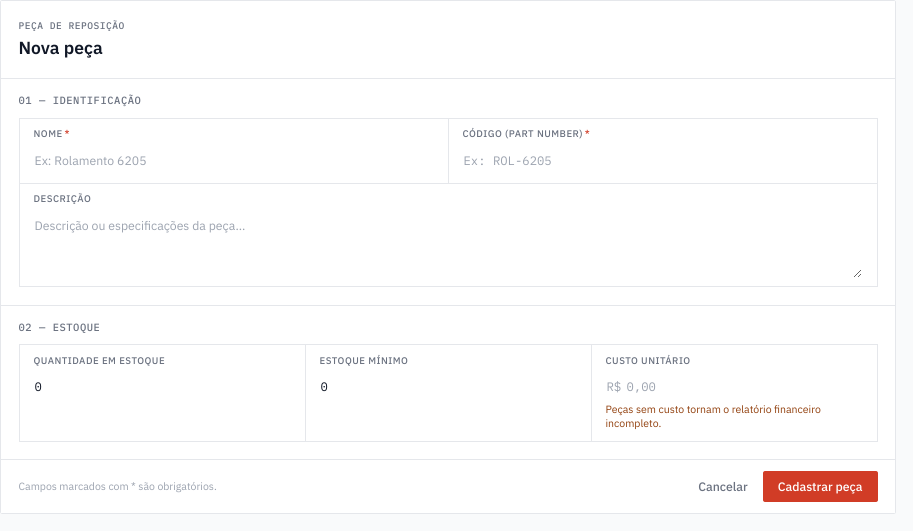
Test: SparePartEditPage — aviso de custo › deve esconder o aviso quando o custo é informado
This screenshot has width=913, height=531.
Type "3590" into the field labelled "Custo Unitário" at (744, 386), box [626, 372, 862, 401]
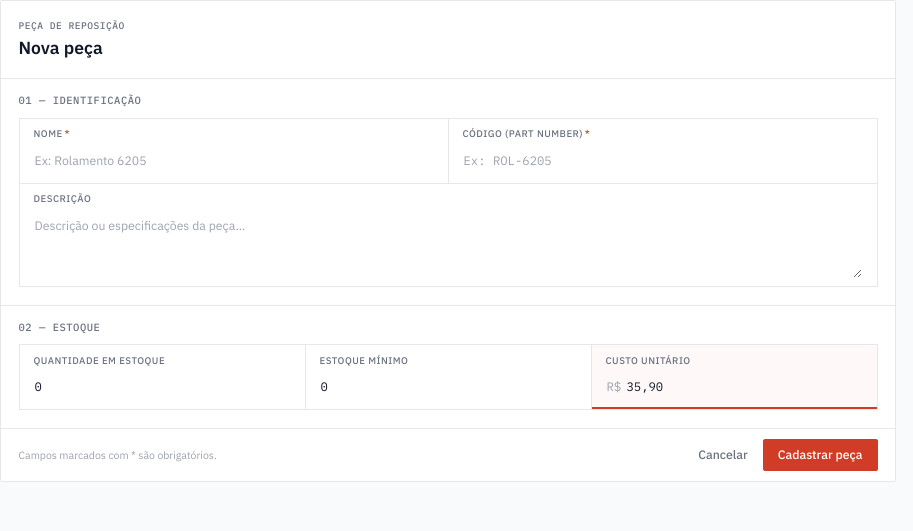
Now the text "Peças sem custo tornam o relatório financeiro incompleto." is gone
